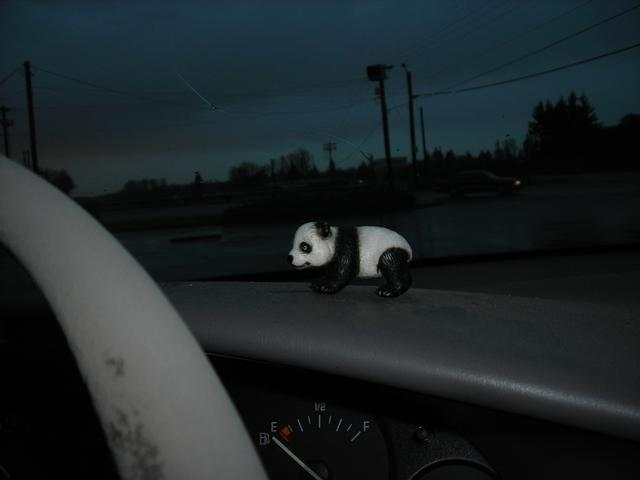panda: (273, 205, 459, 323)
